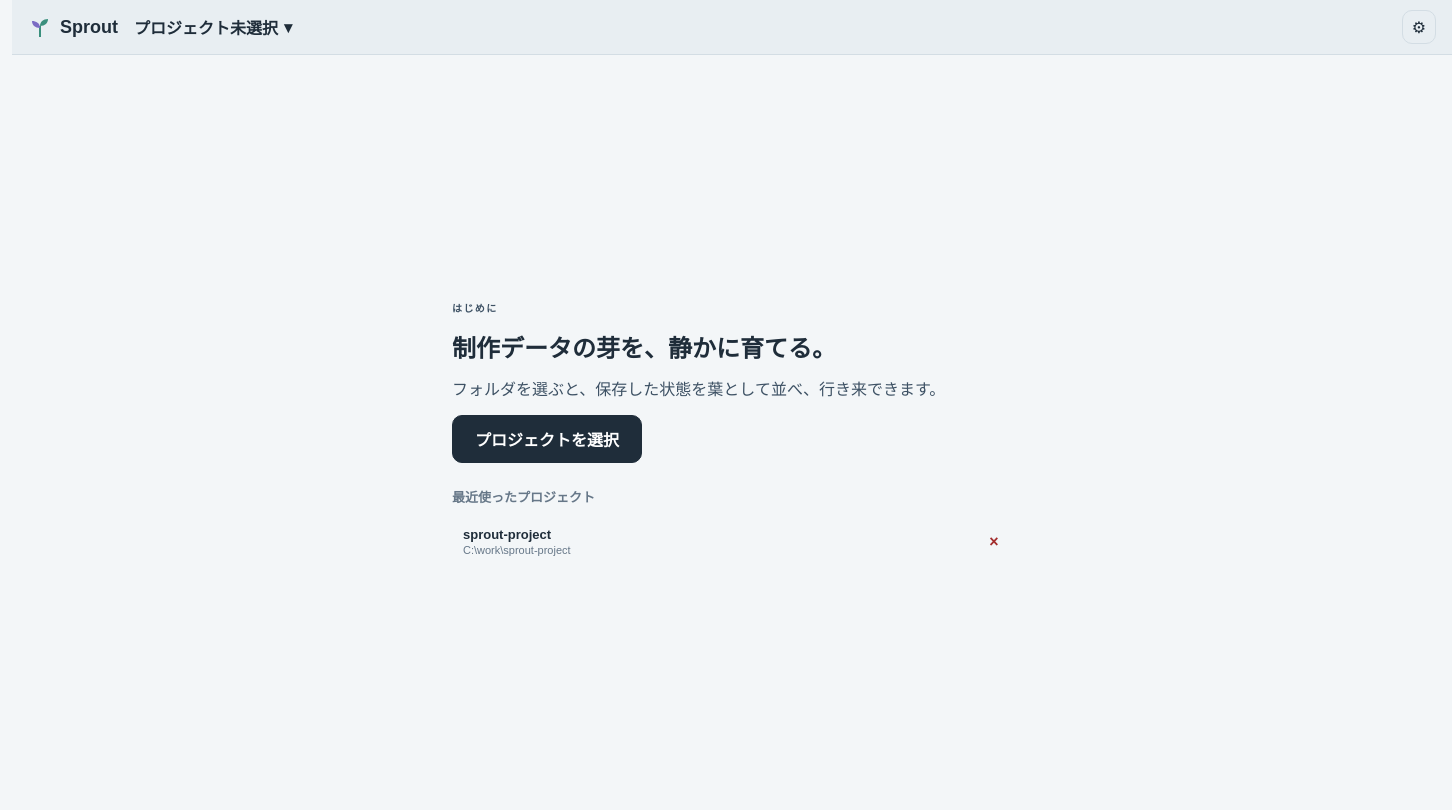
Test: Sprout GUI operations › opens and forgets recent projects from the welcome screen and project menu
The width and height of the screenshot is (1452, 810).
Step 1. Click the button "sprout-project C:\\work\\sprout-project" → point(507, 535), box [453,519,981,564]
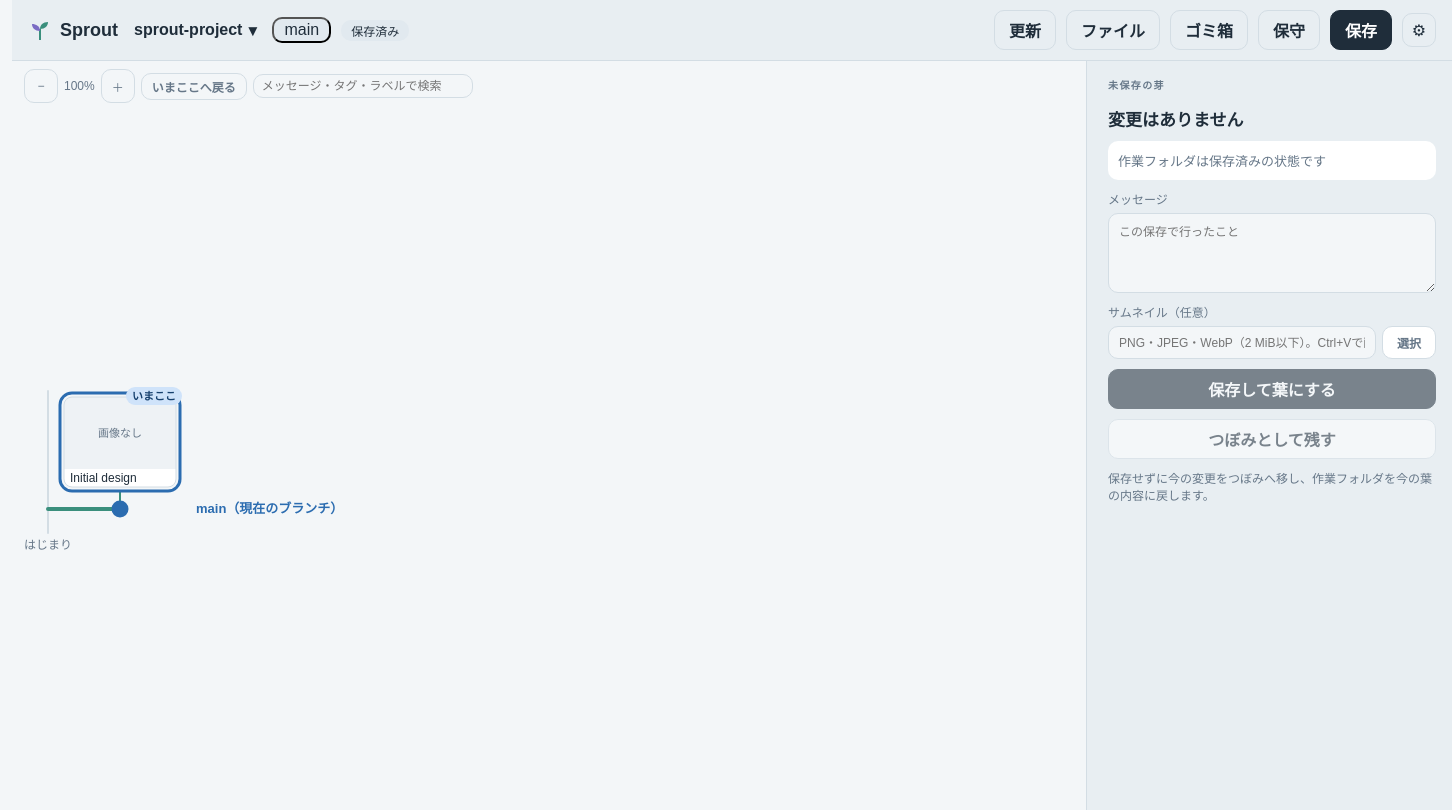
Step 2. Click the button with aria-label "プロジェクトを切り替え" → point(195, 30), box [128,16,262,44]
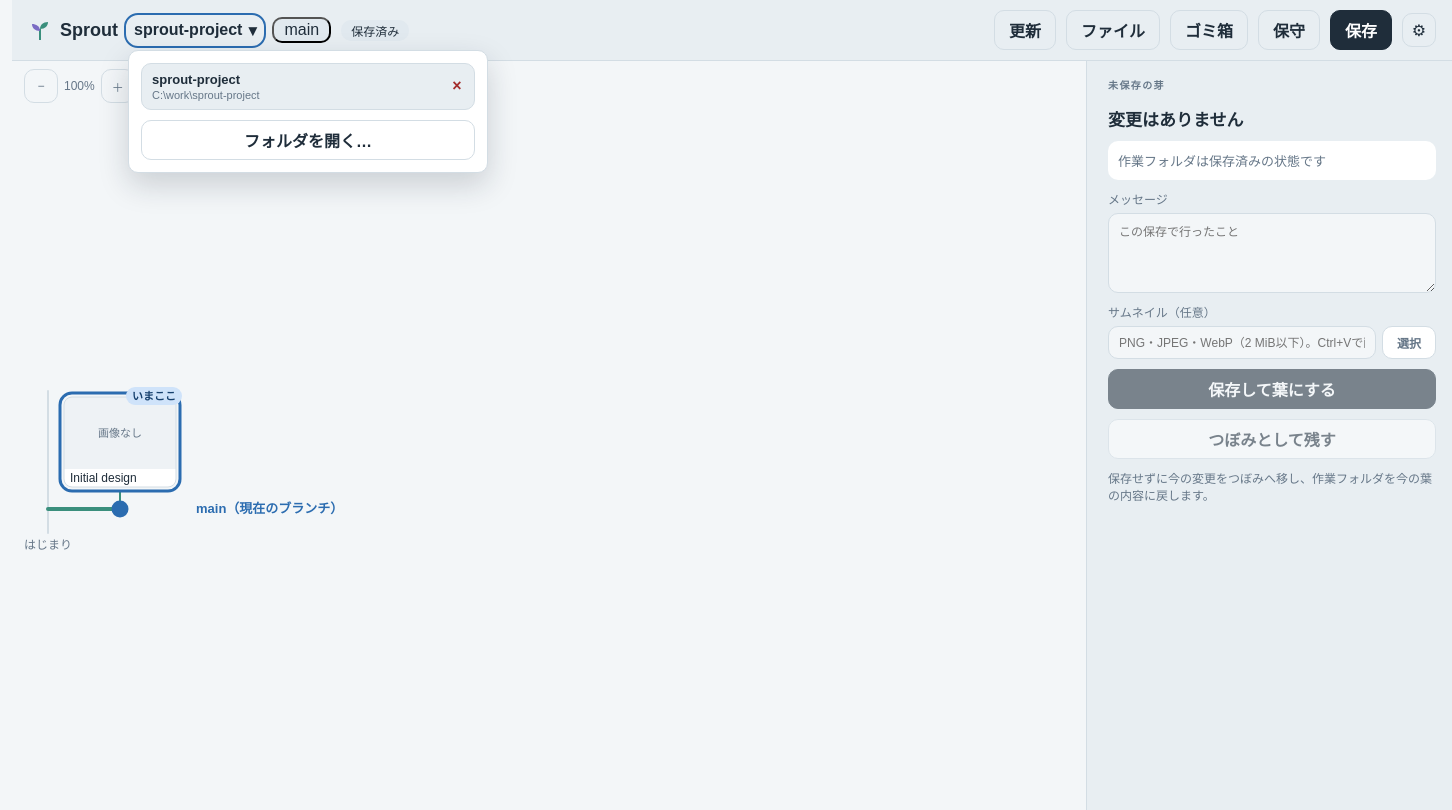
Step 3. Click the button named "sprout-projectを最近使った一覧から削除" → point(457, 86), box [444,73,470,99]
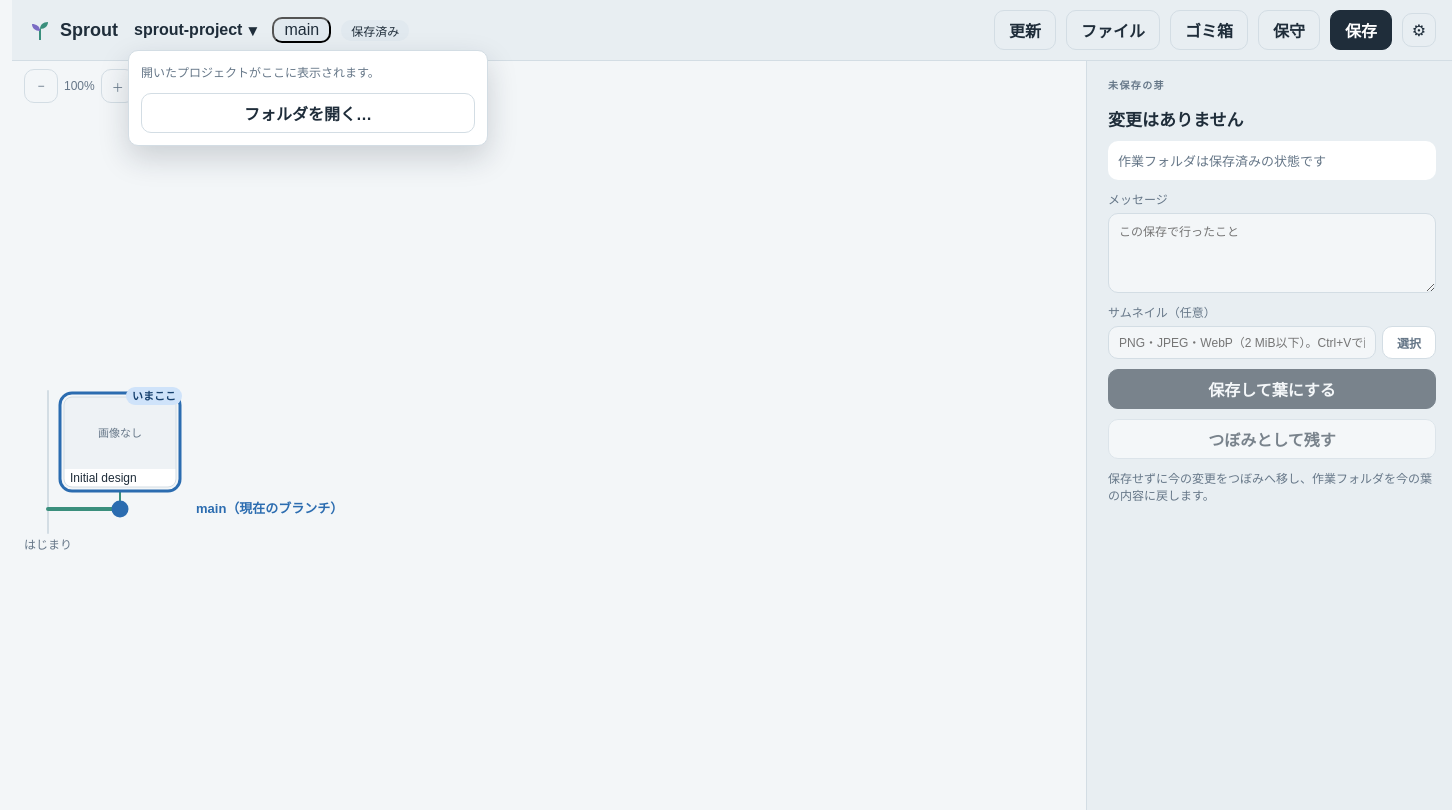
Result: the button "sprout-projectを最近使った一覧から削除" is gone
Step 4. Click the button "フォルダを開く…" → point(308, 113), box [141,93,475,133]
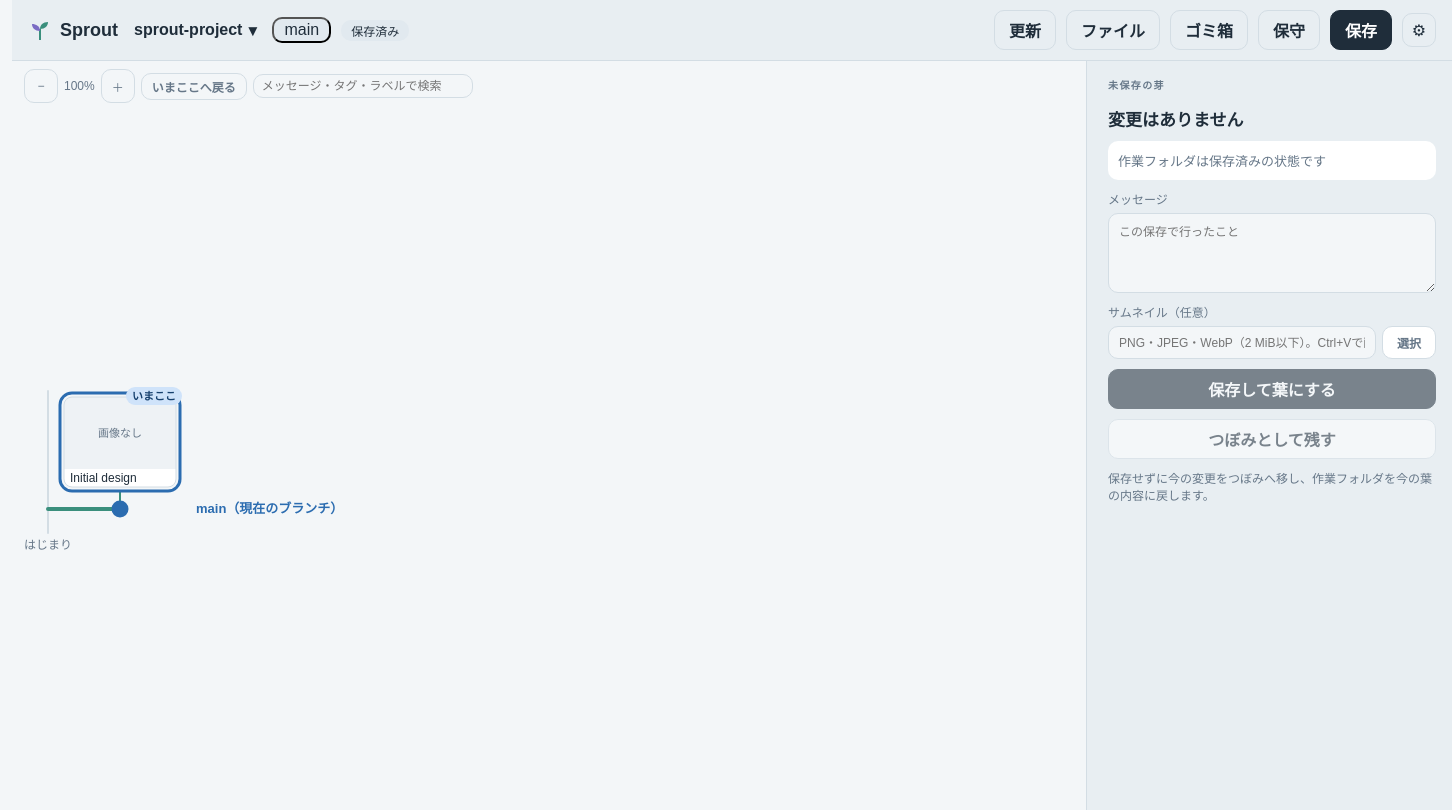
Step 5. Click the button with aria-label "プロジェクトを切り替え" → point(195, 30), box [128,16,262,44]
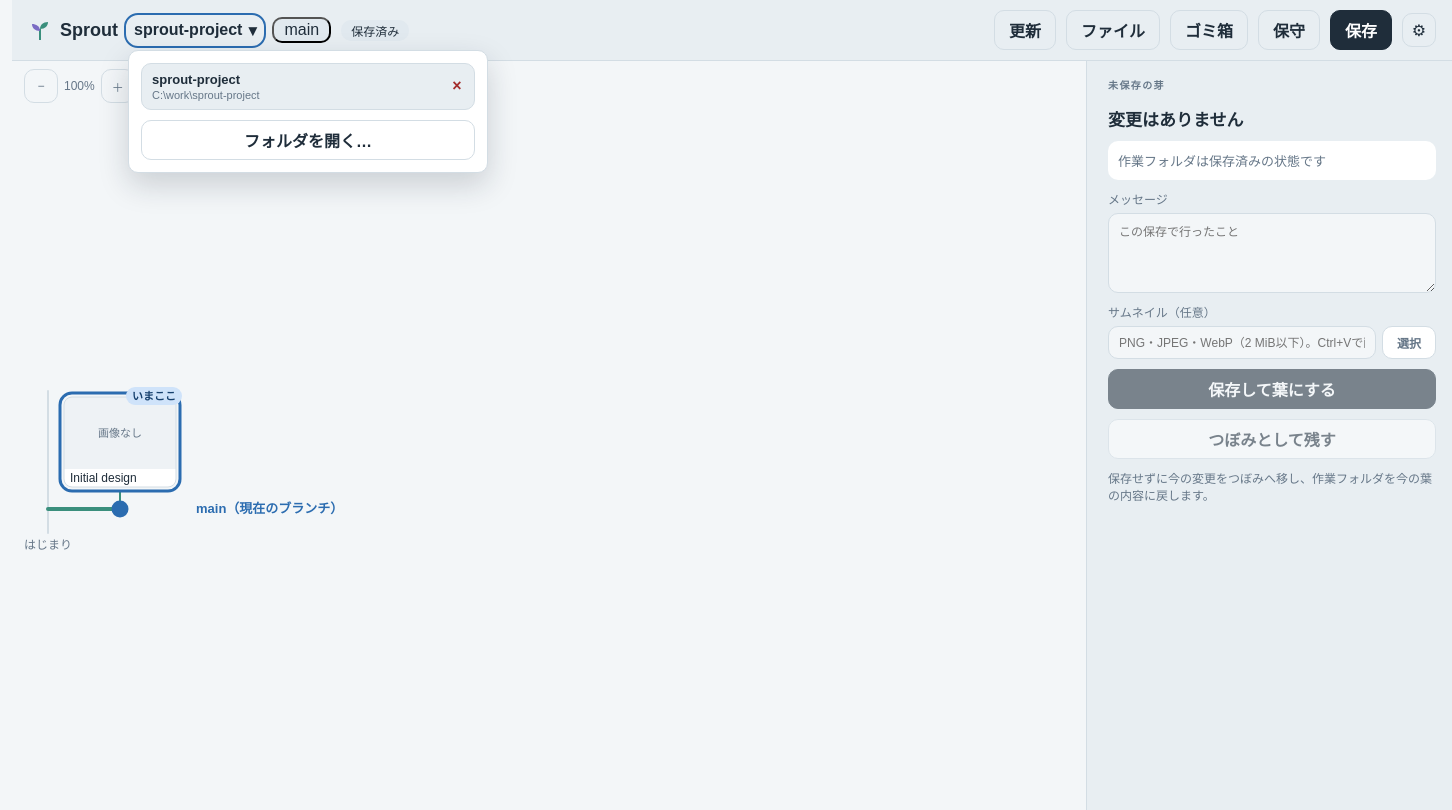
Result: the button named "sprout-projectを最近使った一覧から削除" is shown at [444,73,470,99]
